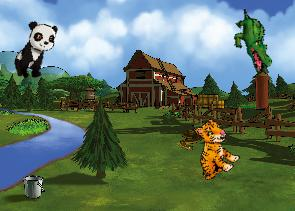crocodile: (220, 7, 286, 75)
panda: (10, 17, 60, 84)
tiger: (178, 115, 246, 185)
